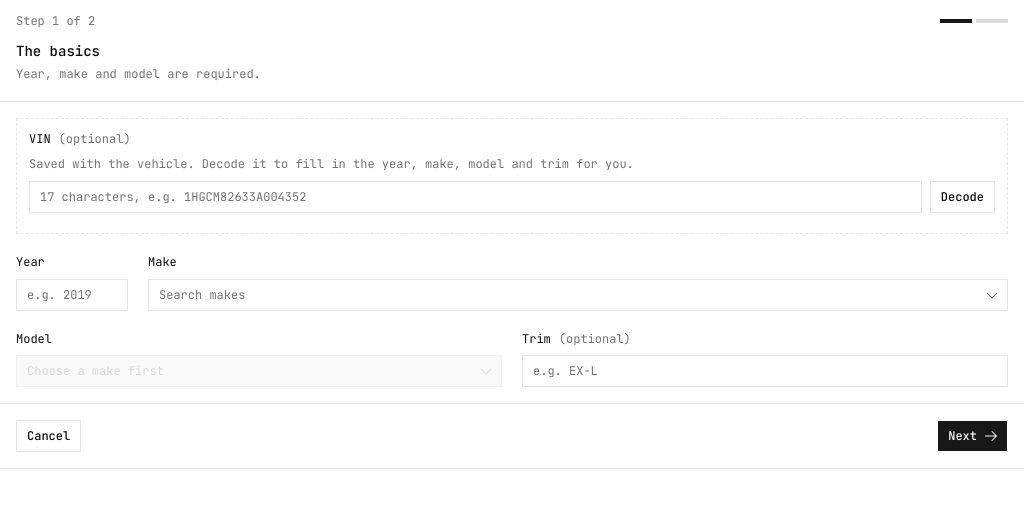
Model combobox › falls back to free text when vPIC lists no models
The width and height of the screenshot is (1024, 512).
Type "1900" into the field labelled "Year" at (72, 294), box [16,278,128,310]
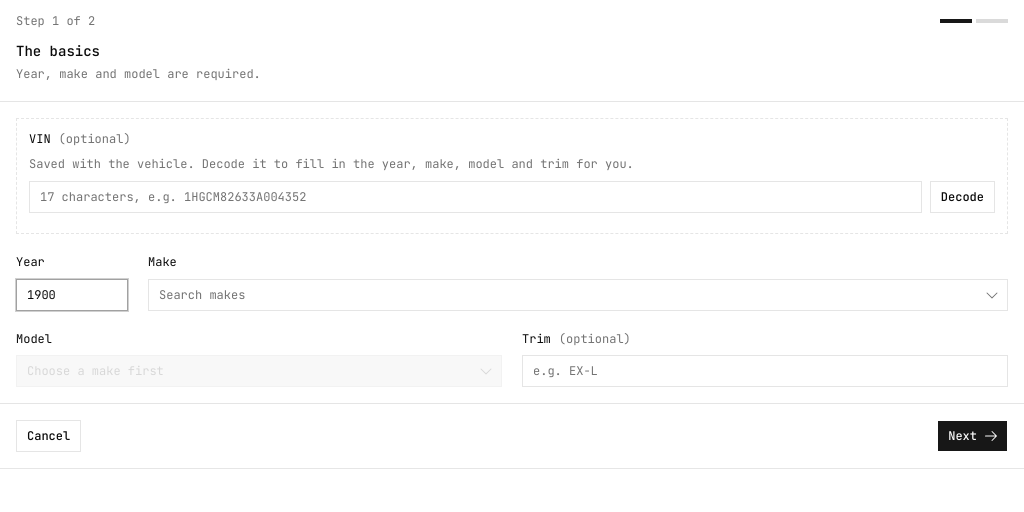
Type "Ford" into the dropdown labelled "Make" at (564, 294), box [149,278,980,310]
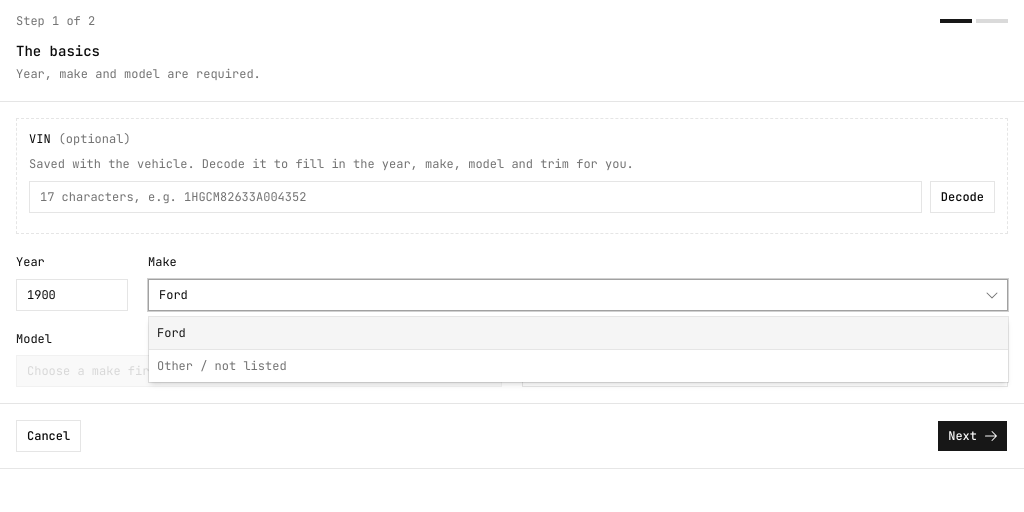
Click the option "Ford" at (171, 333), box [149,317,1008,349]
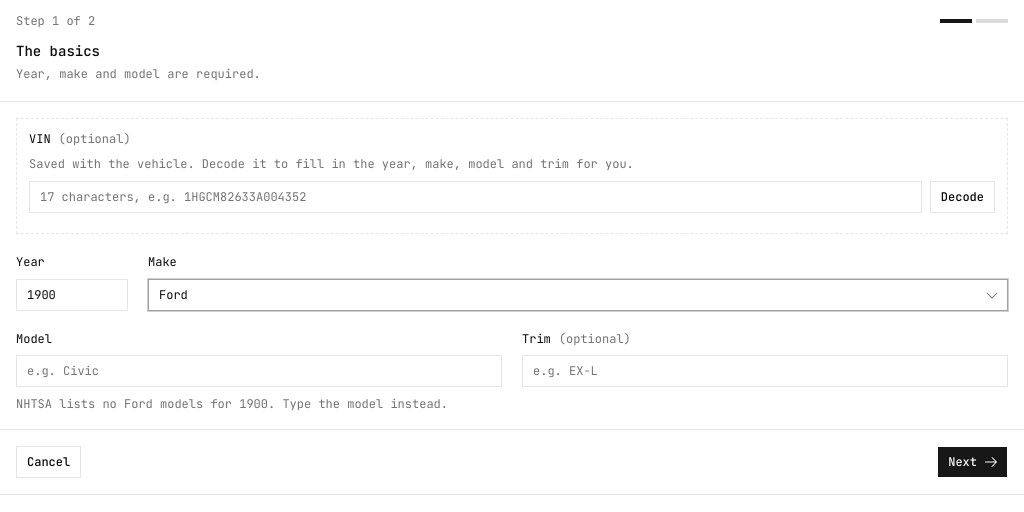
Expected: the text "NHTSA lists no Ford models for 1900. Type the model instead." is shown, [16,395,502,413]
Expected: the field labelled "Model" is enabled, [16,355,502,387]
